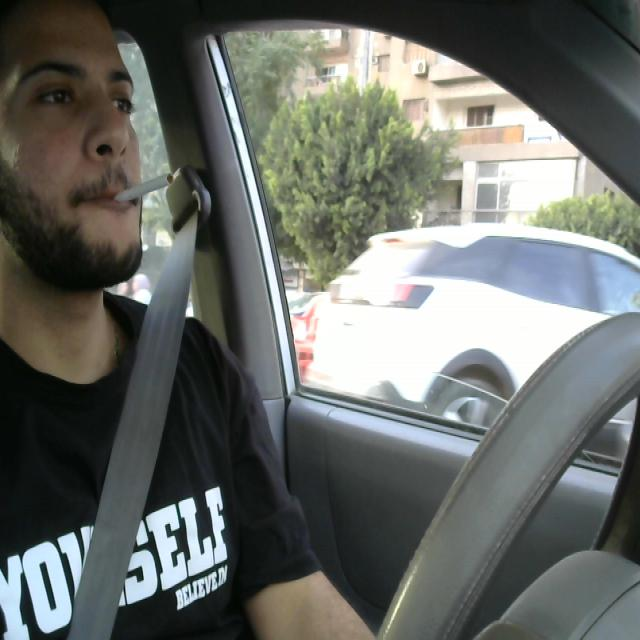smoking: (98, 170, 180, 208)
